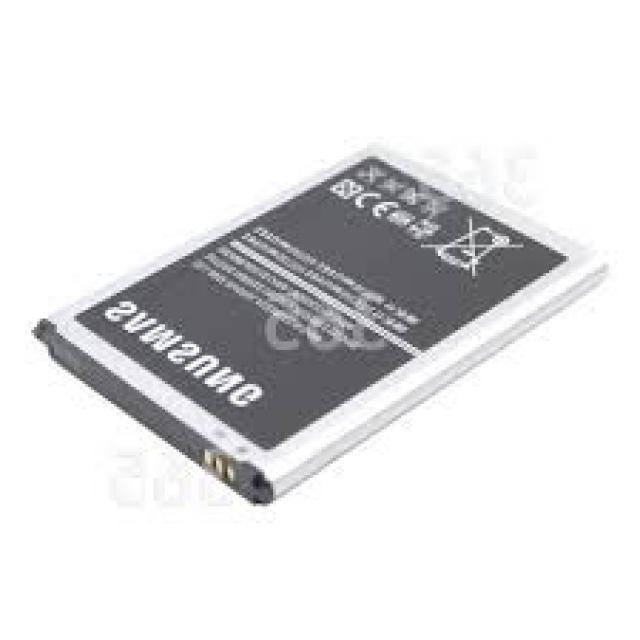battery: (36, 143, 607, 508)
